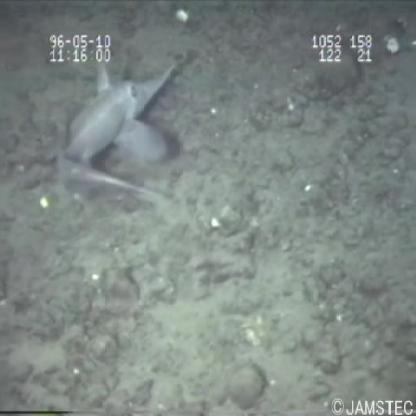Bio: (53, 48, 184, 204)
